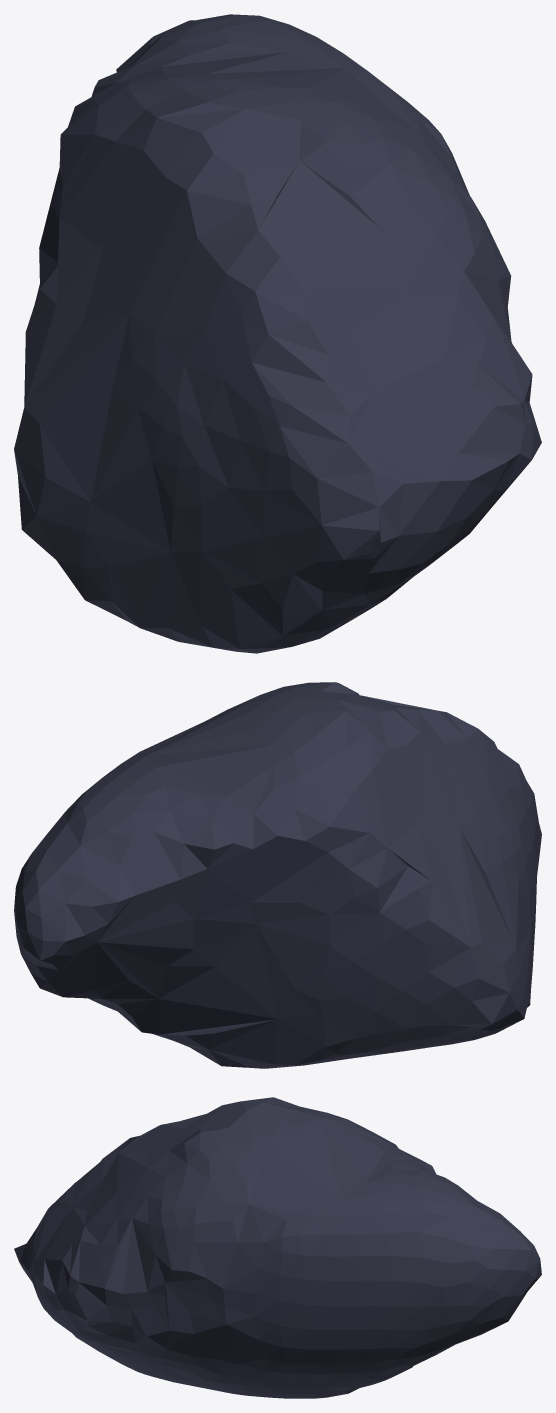
Rendered from Model_10262_LH__Anteromedial_thalamic_nucleus_(AM).obj.
The picture shows the model from 3 angles, top to bottom: view 1: azimuth 30°, elevation 25°; view 2: azimuth 150°, elevation 25°; view 3: azimuth 270°, elevation 25°; orthographic projection. The views are drawn at different scales.
Bounding box in the file's own units: 1.11 × 1.07 × 1.81.
